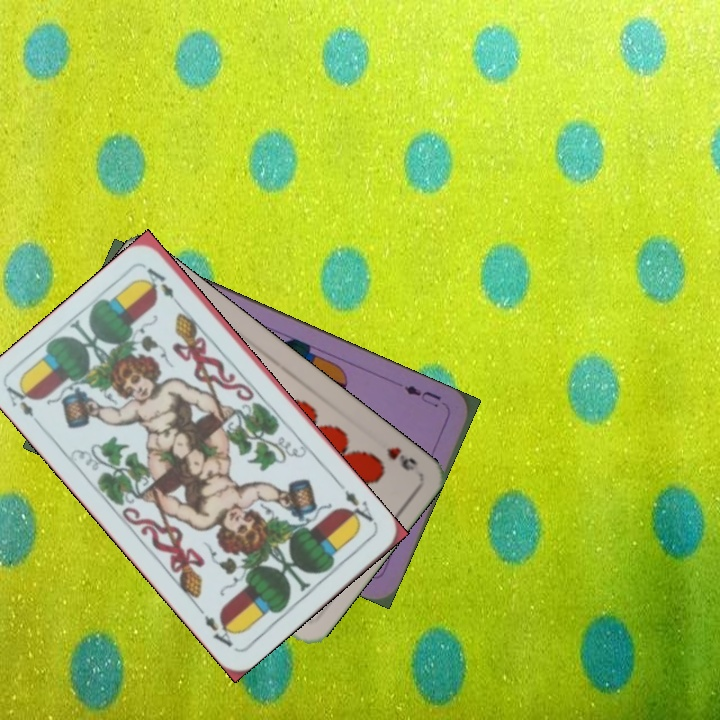EA: (2, 378, 46, 432), (335, 479, 379, 529)
EU: (400, 381, 444, 410)
H9: (382, 442, 420, 474)
